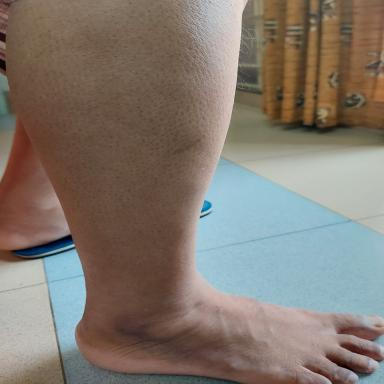normal skin: (1, 0, 384, 384)
